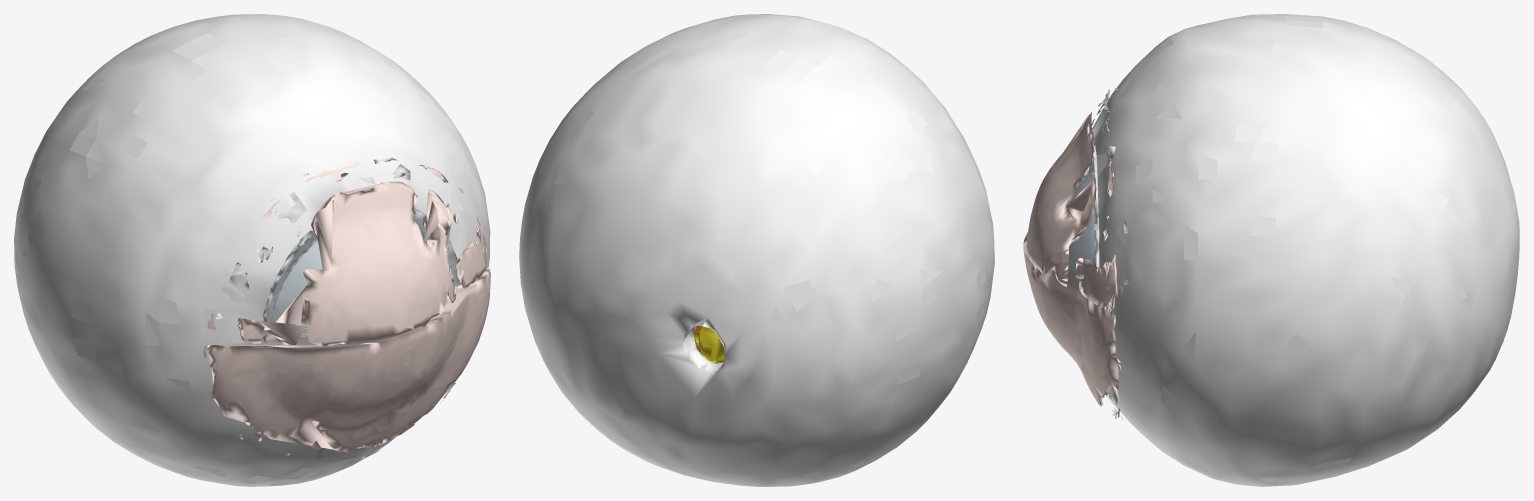
Rendered from 3d-vh-f-eye-l-40.fbx.
The picture shows the model from 3 angles, left to right: view 1: azimuth 30°, elevation 25°; view 2: azimuth 150°, elevation 25°; view 3: azimuth 270°, elevation 25°; orthographic projection.
Visible parts, largest first — view 1: VH_F_sclera_L, VH_F_palpebral_conjunctiva_of_left_lower_eyelid, VH_F_palpebral_conjunctiva_of_left_upper_eyelid, VH_F_cornea_L, VH_F_bulbar_conjunctiva_L, VH_F_corneo_scleral_junction_L, VH_F_aqueous_humor_L; view 2: VH_F_sclera_L, VH_F_optic_disc_L; view 3: VH_F_sclera_L, VH_F_palpebral_conjunctiva_of_left_upper_eyelid, VH_F_palpebral_conjunctiva_of_left_lower_eyelid, VH_F_cornea_L, VH_F_aqueous_humor_L, VH_F_bulbar_conjunctiva_L, VH_F_corneo_scleral_junction_L.
Part boxes in pixels (x1=…): VH_F_sclera_L: x1=14, y1=14, x2=490, y2=486; VH_F_palpebral_conjunctiva_of_left_lower_eyelid: x1=207, y1=267, x2=490, y2=463; VH_F_palpebral_conjunctiva_of_left_upper_eyelid: x1=207, y1=157, x2=487, y2=346; VH_F_cornea_L: x1=262, y1=208, x2=458, y2=343; VH_F_bulbar_conjunctiva_L: x1=203, y1=164, x2=464, y2=459; VH_F_corneo_scleral_junction_L: x1=262, y1=209, x2=459, y2=339; VH_F_aqueous_humor_L: x1=272, y1=241, x2=322, y2=333; VH_F_sclera_L: x1=519, y1=14, x2=994, y2=486; VH_F_optic_disc_L: x1=698, y1=326, x2=724, y2=363; VH_F_sclera_L: x1=1092, y1=14, x2=1519, y2=486; VH_F_palpebral_conjunctiva_of_left_upper_eyelid: x1=1026, y1=89, x2=1117, y2=311; VH_F_palpebral_conjunctiva_of_left_lower_eyelid: x1=1023, y1=201, x2=1120, y2=418; VH_F_cornea_L: x1=1049, y1=149, x2=1097, y2=288; VH_F_aqueous_humor_L: x1=1068, y1=169, x2=1095, y2=270; VH_F_bulbar_conjunctiva_L: x1=1091, y1=88, x2=1129, y2=419; VH_F_corneo_scleral_junction_L: x1=1086, y1=131, x2=1099, y2=267.
Bounding box in the file's own units: 2.45 × 2.44 × 2.57.
